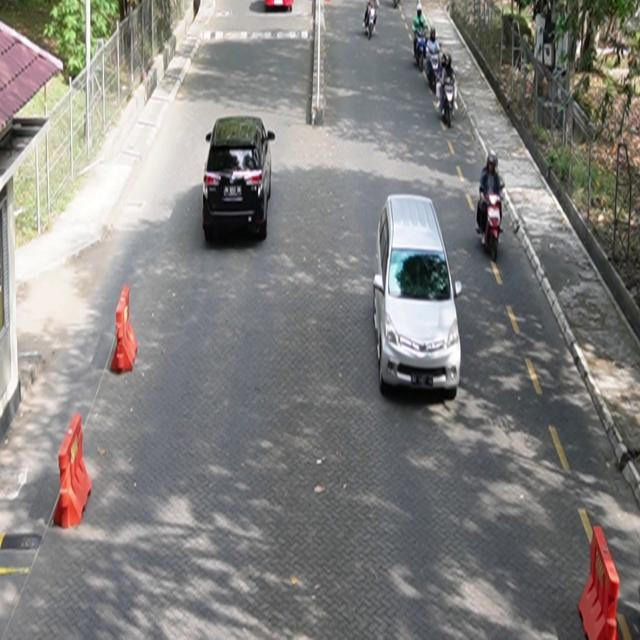car: (374, 194, 464, 400), (203, 115, 276, 243)
